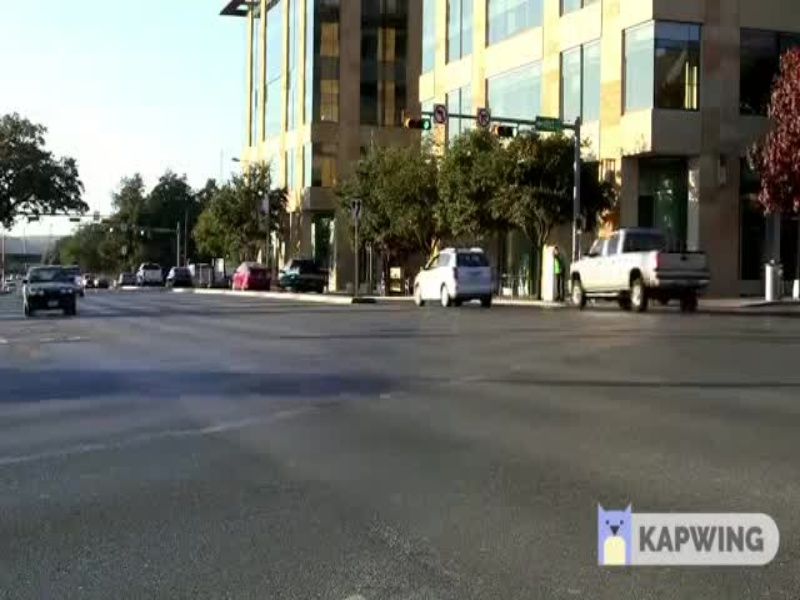car: (566, 229, 712, 308), (394, 251, 508, 314), (16, 265, 78, 319)
